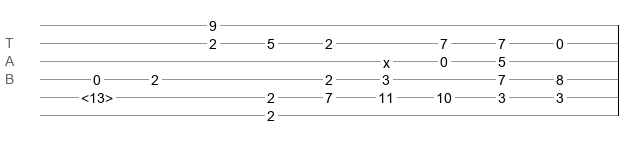0: (93, 72, 101, 82), (440, 54, 448, 64), (556, 36, 564, 46)
10: (436, 90, 452, 100)
11: (378, 90, 394, 100)
2: (151, 72, 159, 82), (209, 36, 217, 46), (267, 90, 275, 100), (267, 108, 275, 118), (325, 36, 333, 46), (325, 72, 333, 82)
3: (382, 72, 390, 82), (498, 90, 506, 100), (556, 90, 564, 100)
5: (267, 36, 275, 46), (498, 54, 506, 64)
7: (325, 90, 333, 100), (440, 36, 448, 46), (498, 36, 506, 46), (498, 72, 506, 82)
8: (556, 72, 564, 82)
9: (209, 18, 217, 28)
harmonic: (81, 90, 113, 100)
x: (383, 55, 390, 63)
